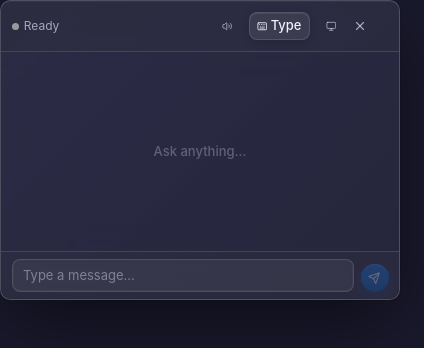
Scenario: Full Chat Flow — Type Mode › completes full chat cycle: empty → input → send → response
Expected: the text "Ask anything…" is shown, [154, 142, 246, 158]
Expected: the button named "Send message" is disabled, [360, 264, 388, 292]
// Type a message
Step 1. Type "What is Hermes?" into the text box with test id "compact-input" → (182, 275), box [12, 258, 354, 292]
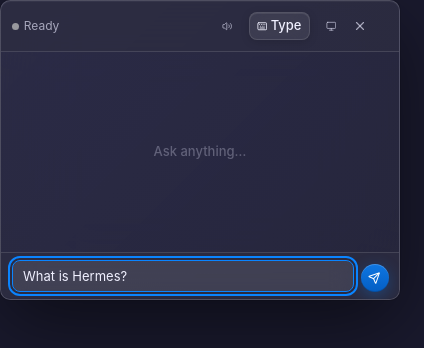
Expected: the button named "Send message" is enabled
// Click send
Step 2. Click the button named "Send message" → (374, 278), box [360, 264, 388, 292]
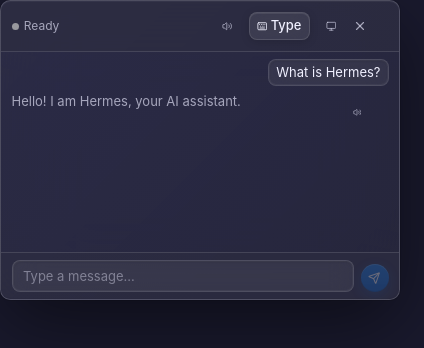
Expected: the text box with test id "compact-input" is empty, [12, 260, 354, 292]
Expected: the text "What is Hermes?" is shown, [268, 59, 388, 86]
Expected: the text "Hello! I am Hermes, your AI assistant." is shown, [12, 92, 241, 108]
